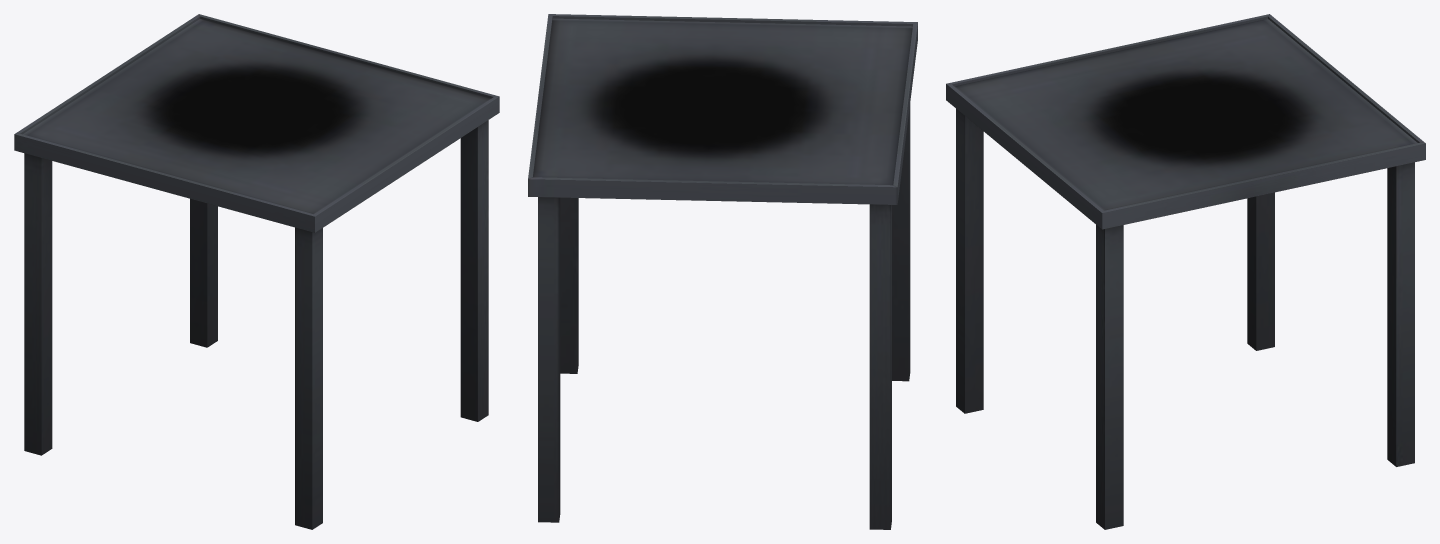
Rendered from table_G_3.dae.
3 renders of one model, left to right at view 1: azimuth 30°, elevation 25°; view 2: azimuth 150°, elevation 25°; view 3: azimuth 270°, elevation 25°, orthographic. The views are drawn at different scales.
Visible parts, largest first — view 1: pCube7, pCube8, pCube10, pCube11, pCube9; view 2: pCube7, pCube8, pCube9, pCube11, pCube10; view 3: pCube7, pCube10, pCube9, pCube11, pCube8.
Boxes of the visible parts, x1,y1,x2,y2 form: pCube7: (14,14,499,232); pCube8: (24,153,52,455); pCube10: (460,120,488,421); pCube11: (295,227,322,529); pCube9: (190,199,217,347); pCube7: (528,14,917,204); pCube8: (869,204,891,529); pCube9: (538,197,560,522); pCube11: (892,103,910,381); pCube10: (560,197,578,373); pCube7: (946,14,1425,229); pCube10: (1096,225,1123,529); pCube9: (1387,162,1414,466); pCube11: (956,109,983,413); pCube8: (1247,192,1274,350).
Size of the model in its own units: 1.09 by 0.8211 by 1.11.
Materials: 1 (1 with a texture image).
